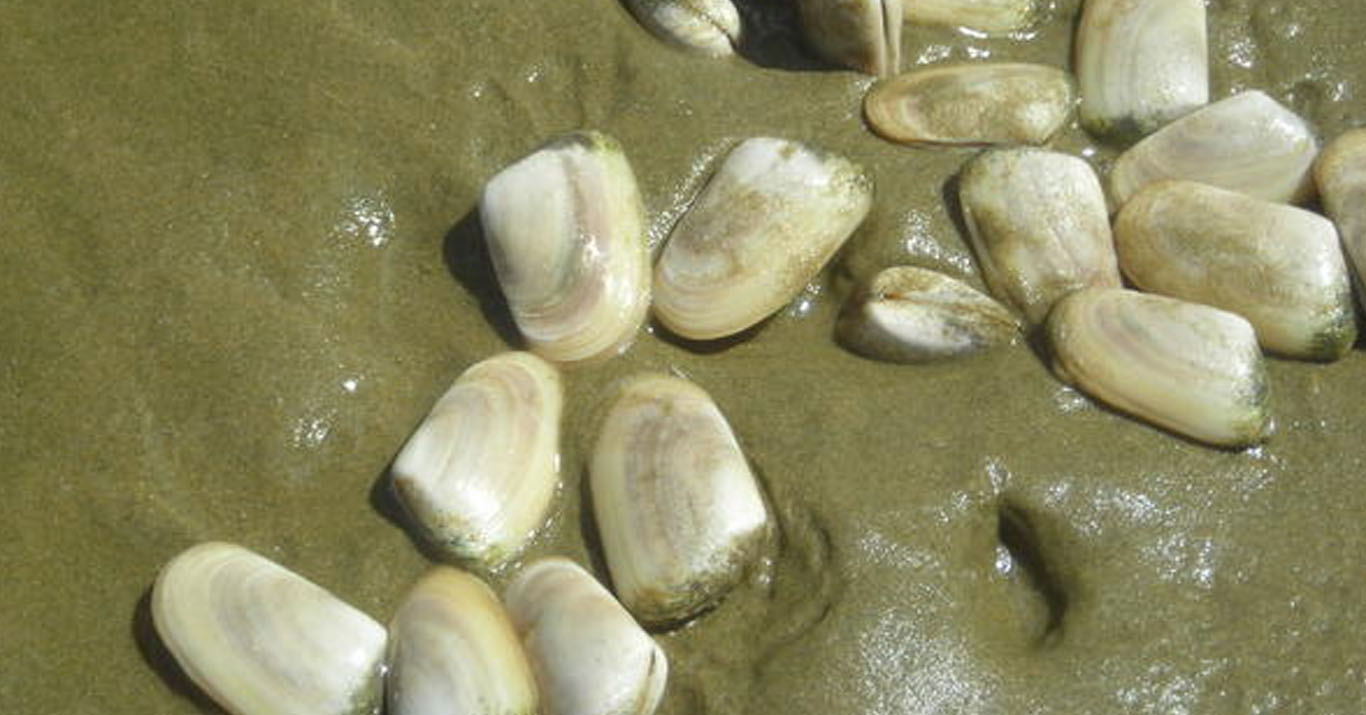tuatua: (655, 131, 876, 357), (587, 369, 776, 631), (1113, 173, 1360, 369), (140, 534, 389, 715), (371, 347, 572, 569), (472, 121, 658, 358), (1040, 278, 1279, 452), (958, 142, 1119, 329), (500, 553, 681, 713), (1108, 92, 1329, 211), (381, 558, 536, 715), (1068, 1, 1206, 147), (868, 61, 1087, 151), (845, 263, 1014, 365)
